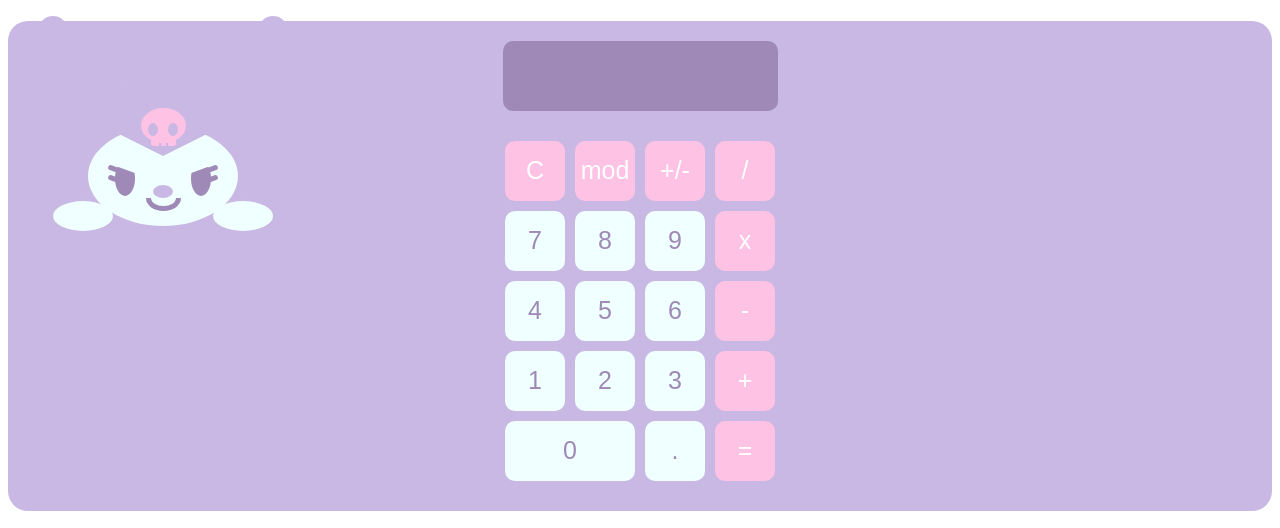
Test: Funcionalidades Calculadora › La pantalla muestra los números
The image size is (1280, 528).
Click the button "5". click: (605, 311)
box: [575,281,635,341]
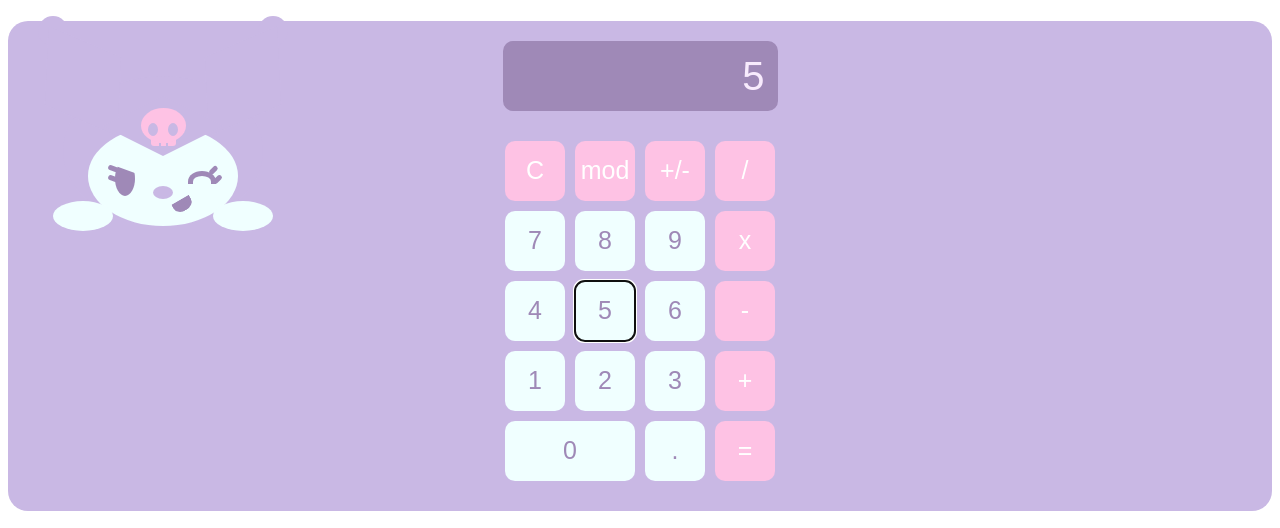
Click the button "3". click: (675, 381)
box: [645,351,705,411]
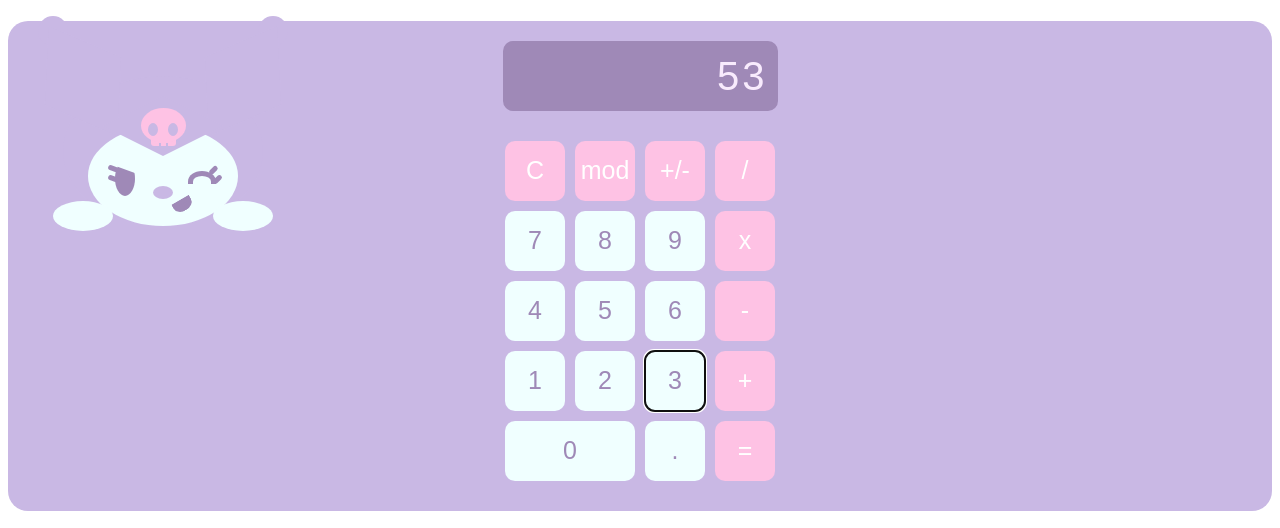
Now the text "53" is shown, box [502,41,778,111]
